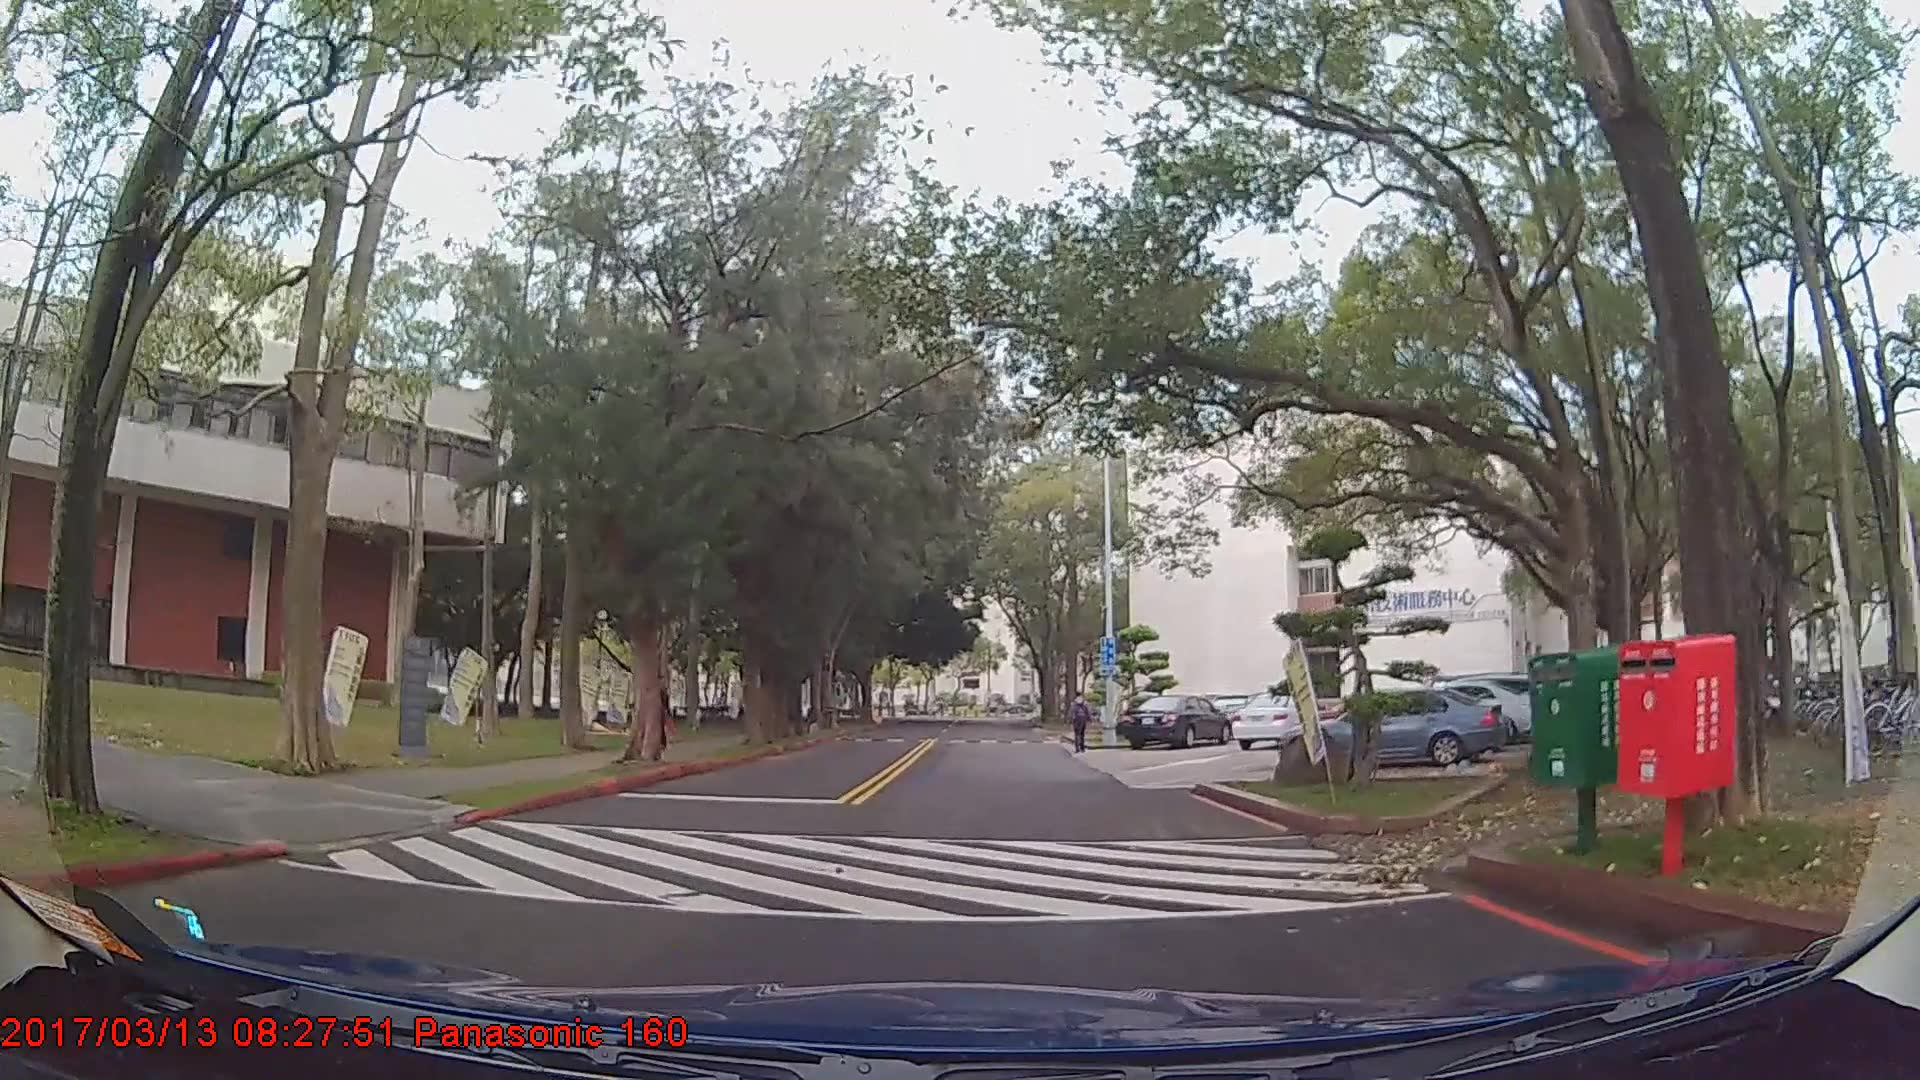pedestrian: (642, 671, 672, 753), (1068, 692, 1096, 755)
vehicle: (1274, 681, 1503, 776), (1116, 695, 1228, 749), (1230, 690, 1319, 749)
